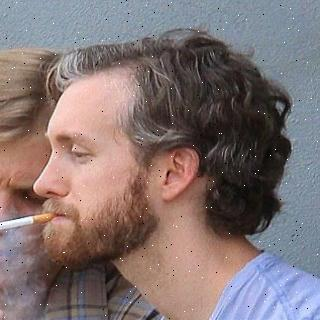smoke: (0, 241, 51, 320)
